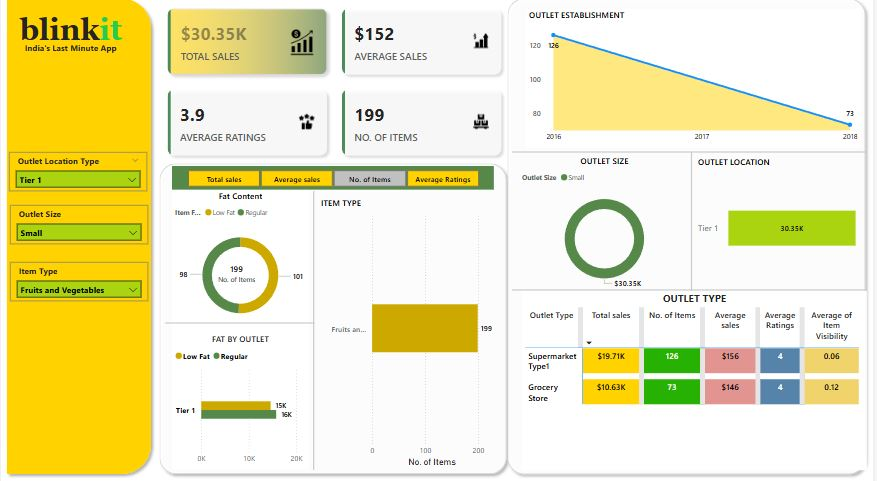

This screenshot's page, from the dashboard's own definition file:
{"tool":"powerbi","page":{"name":"Page 1","canvas":[1400,800],"ordinal":0},"visuals":[{"type":"shape","box":[0,0,250,781.7],"z":0},{"type":"textbox","box":[13.3,25,198.3,65],"z":1000},{"type":"textbox","box":[25,73.3,186.7,31.7],"z":2000},{"type":"cardVisual","fields":{"Data":["BlinkIT Grocery Data.Total sales","BlinkIT Grocery Data.Average sales","BlinkIT Grocery Data.Average Ratings","BlinkIT Grocery Data.No. of Items"]},"box":[250,8.3,570,270],"z":3000},{"type":"shape","box":[245,265,575,516.7],"z":4000},{"type":"donutChart","title":"Fat Content","fields":{"Y":["BlinkIT Grocery Data.Total sales"],"Category":["BlinkIT Grocery Data.Item Fat Content"]},"box":[275,316.7,220,230],"z":5000},{"type":"slicer","fields":{"Values":["Matrix.Matrix"]},"box":[275,278.3,516.7,38.3],"z":6000},{"type":"cardVisual","fields":{"Data":["BlinkIT Grocery Data.Total sales"]},"box":[330,418.3,98.3,55],"z":7000},{"type":"clusteredBarChart","title":"FAT BY OUTLET","fields":{"Y":["Sum(BlinkIT Grocery Data.Sales)"],"Category":["BlinkIT Grocery Data.Outlet Location Type"],"Series":["BlinkIT Grocery Data.Item Fat Content"]},"box":[275,546.7,220,220],"z":8000},{"type":"shape","box":[263.3,523.3,240,13.3],"z":9000},{"type":"shape","box":[495,318.3,15,448.3],"z":10000},{"type":"barChart","title":"ITEM TYPE","fields":{"Y":["BlinkIT Grocery Data.Total sales"],"Category":["BlinkIT Grocery Data.Item Type"]},"box":[510,328.3,295,438.3],"z":11000},{"type":"shape","box":[808,17.7,592.8,782.3],"z":12000},{"type":"lineChart","title":"OUTLET ESTABLISHMENT","fields":{"Y":["BlinkIT Grocery Data.Total sales"],"Category":["BlinkIT Grocery Data.Outlet Establishment Year"]},"box":[843.4,25.7,538.2,223.3],"z":13000},{"type":"shape","box":[820.9,249,570.3,12.9],"z":14000},{"type":"donutChart","title":"OUTLET SIZE","fields":{"Y":["BlinkIT Grocery Data.Total sales"],"Category":["BlinkIT Grocery Data.Outlet Size"]},"box":[832.1,260.2,274.7,224.9],"z":14001},{"type":"shape","box":[1100.4,255.4,17.7,239.4],"z":14002},{"type":"funnel","title":"OUTLET LOCATION","fields":{"Category":["BlinkIT Grocery Data.Outlet Location Type"],"Y":["Sum(BlinkIT Grocery Data.Sales)"]},"box":[1114.9,261.8,268.3,213.7],"z":14003},{"type":"shape","box":[820.9,469.1,570.3,16.1],"z":14004},{"type":"pivotTable","title":"OUTLET TYPE","fields":{"Rows":["BlinkIT Grocery Data.Outlet Type"],"Values":["BlinkIT Grocery Data.Total sales","BlinkIT Grocery Data.No. of Items","BlinkIT Grocery Data.Average sales","BlinkIT Grocery Data.Average Ratings","Avg(BlinkIT Grocery Data.Item Visibility)"]},"box":[836.9,478.7,554.2,287.6],"z":14005},{"type":"slicer","fields":{"Values":["BlinkIT Grocery Data.Outlet Location Type"]},"box":[12.9,255.4,221.7,62.7],"z":14006},{"type":"slicer","fields":{"Values":["BlinkIT Grocery Data.Outlet Size"]},"box":[14.5,340.6,221.7,62.7],"z":14007},{"type":"slicer","fields":{"Values":["BlinkIT Grocery Data.Item Type"]},"box":[14.5,432.1,221.7,62.7],"z":14008}]}

Visuals, with their boxes in screenshot pixels (x1, y1, x2, y2):
shape: (left=0, top=0, right=154, bottom=480)
textbox: (left=8, top=15, right=130, bottom=55)
textbox: (left=15, top=45, right=130, bottom=65)
cardVisual - BlinkIT Grocery Data.Total sales x BlinkIT Grocery Data.Average sales: (left=154, top=5, right=505, bottom=171)
shape: (left=151, top=163, right=505, bottom=480)
"Fat Content" donutChart: (left=169, top=195, right=305, bottom=337)
slicer - Matrix.Matrix: (left=169, top=171, right=488, bottom=195)
cardVisual - BlinkIT Grocery Data.Total sales: (left=203, top=258, right=264, bottom=291)
"FAT BY OUTLET" clusteredBarChart: (left=169, top=337, right=305, bottom=472)
shape: (left=162, top=322, right=310, bottom=330)
shape: (left=305, top=196, right=314, bottom=472)
"ITEM TYPE" barChart: (left=314, top=202, right=496, bottom=472)
shape: (left=498, top=11, right=863, bottom=480)
"OUTLET ESTABLISHMENT" lineChart: (left=519, top=16, right=851, bottom=153)
shape: (left=506, top=153, right=857, bottom=161)
"OUTLET SIZE" donutChart: (left=512, top=160, right=682, bottom=299)
shape: (left=678, top=157, right=689, bottom=305)
"OUTLET LOCATION" funnel: (left=687, top=161, right=852, bottom=293)
shape: (left=506, top=289, right=857, bottom=299)
"OUTLET TYPE" pivotTable: (left=515, top=295, right=857, bottom=472)
slicer - BlinkIT Grocery Data.Outlet Location Type: (left=8, top=157, right=144, bottom=196)
slicer - BlinkIT Grocery Data.Outlet Size: (left=9, top=210, right=145, bottom=248)
slicer - BlinkIT Grocery Data.Item Type: (left=9, top=266, right=145, bottom=305)
